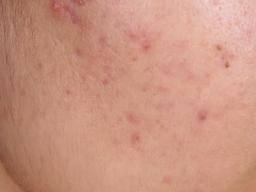acne marks: (43, 1, 169, 155)
